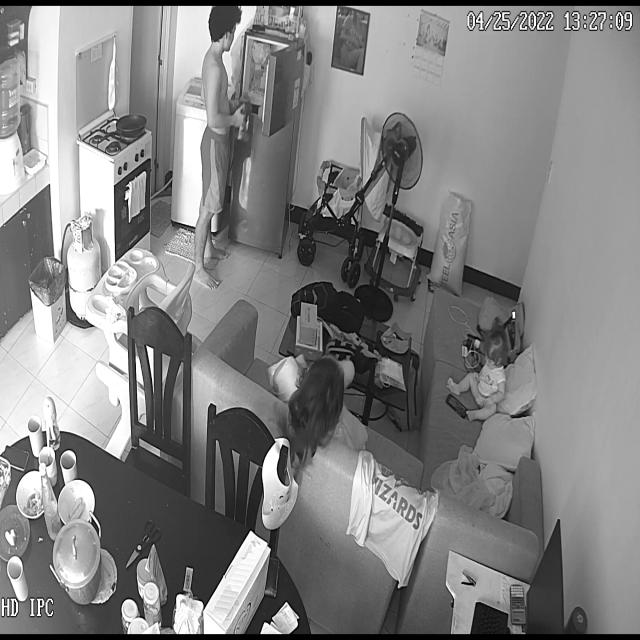adult: (188, 11, 252, 292), (270, 324, 364, 464)
child: (441, 339, 507, 432)
